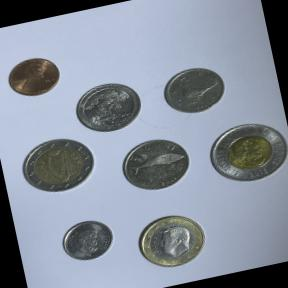coin: (197, 106, 288, 196), (123, 201, 220, 281), (110, 126, 205, 206), (9, 129, 102, 205), (65, 70, 151, 140), (0, 43, 73, 109), (51, 208, 123, 270)
